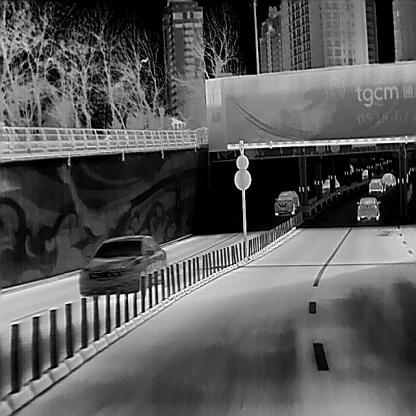car: (78, 233, 165, 297), (274, 187, 299, 214), (357, 195, 379, 220), (322, 177, 339, 195), (368, 177, 385, 191), (382, 172, 396, 185), (361, 167, 373, 179)
